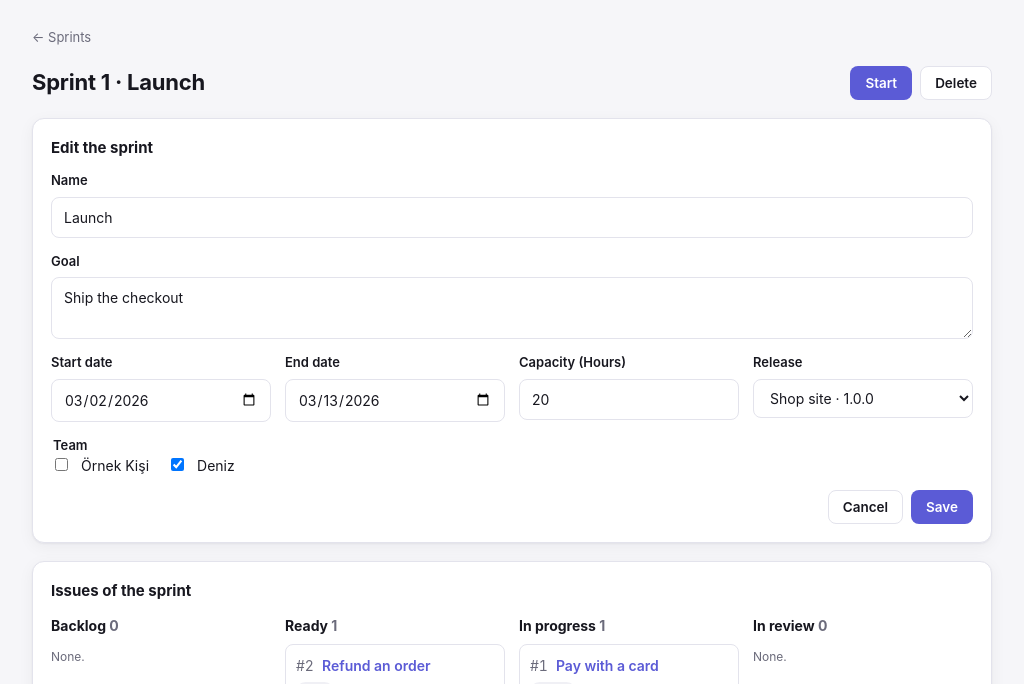
it: the sprint page: changing the sprint › checks before asking: the end cannot be before the start
Type "2026-03-01" into the date field labelled "End date" at (395, 400), box [285,378,505,422]
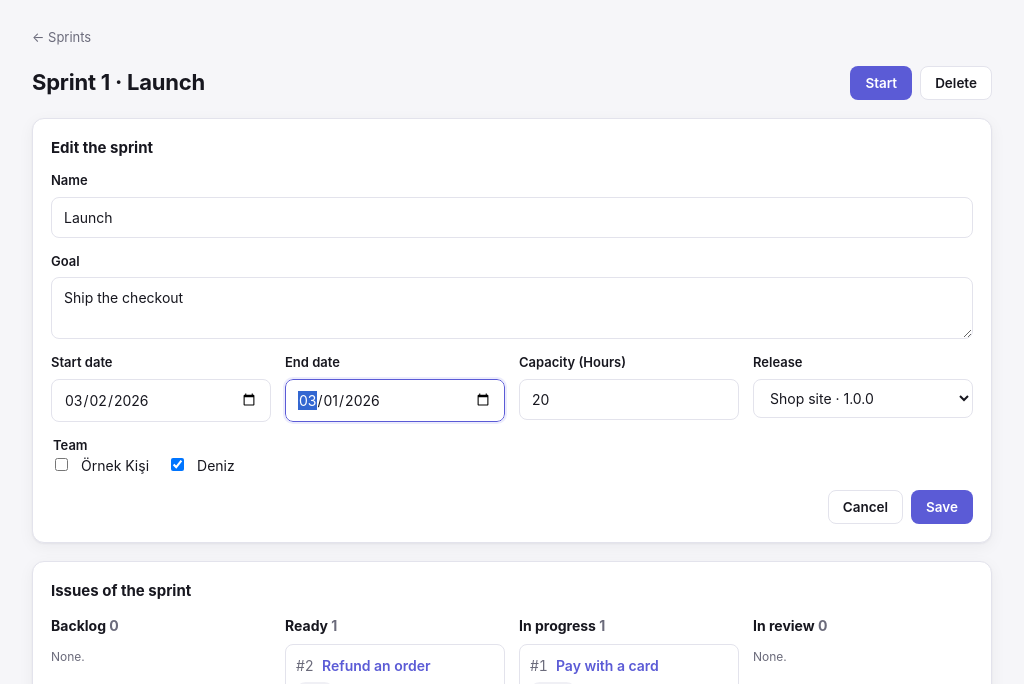
Click the button "Save" at (942, 507), box [911,490,973,524]
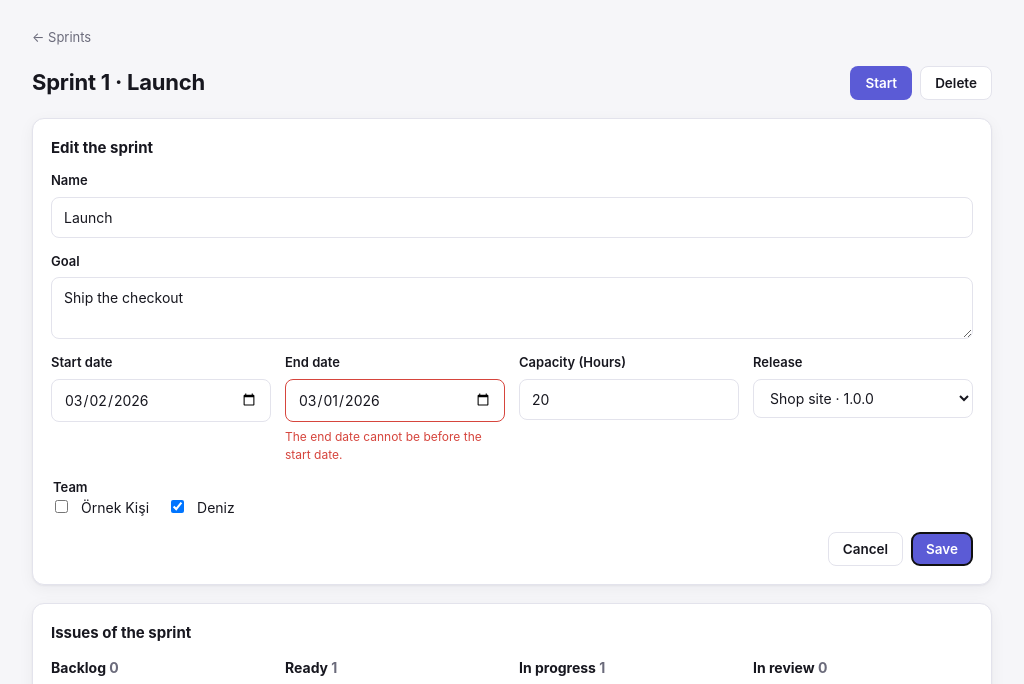
expect the text "The end date cannot be before the start date." is shown: met, box [285,428,505,464]
